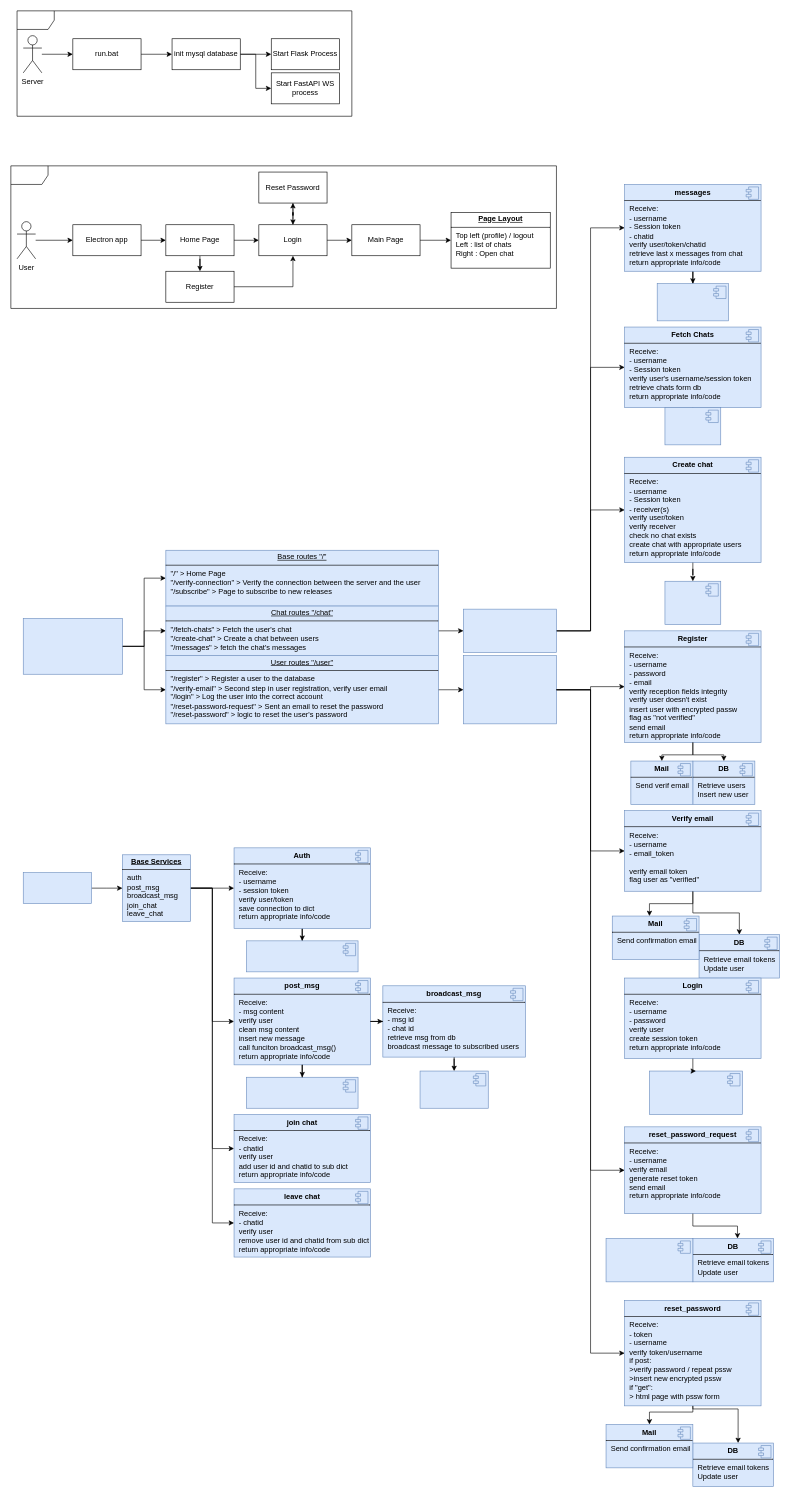
Some shapes in this 791 by 1497 pixel diagram are drawn without their labels. The box of each missing label's shape, as (x1, y1, x2, y2) in pixels:
Backend: (16, 10, 352, 116)
Chat routes "/chat" fetch_chats create_chat: (463, 609, 556, 653)
DB insert message: (246, 1077, 358, 1108)
DB Retrieve chats: (664, 407, 721, 445)
DB Retrieve chats Insert chat: (664, 581, 721, 625)
DB retrieve message: (419, 1070, 488, 1108)
DB Retrieve messages: (657, 283, 728, 321)
DB Retrieve users / session tokens: (246, 940, 358, 972)
DB Retrieve users Insert new session code: (649, 1070, 742, 1114)
FastAPI WS Base routes "/ws": (23, 872, 91, 904)
Flask API Base routes "/" Chat routes "/chat" User routes "/user": (23, 618, 122, 674)
Frontend: (10, 165, 556, 308)
Mail Send reset email: (605, 1238, 693, 1282)
User services register verify_email login reset_password_request reset_password: (463, 655, 556, 724)
